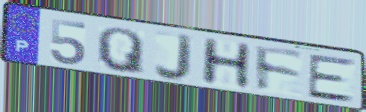5: (48, 17, 88, 66)
E: (305, 53, 358, 105)
F: (253, 44, 307, 94)
H: (199, 36, 255, 90)
J: (152, 32, 196, 83)
Q: (95, 26, 147, 77)
